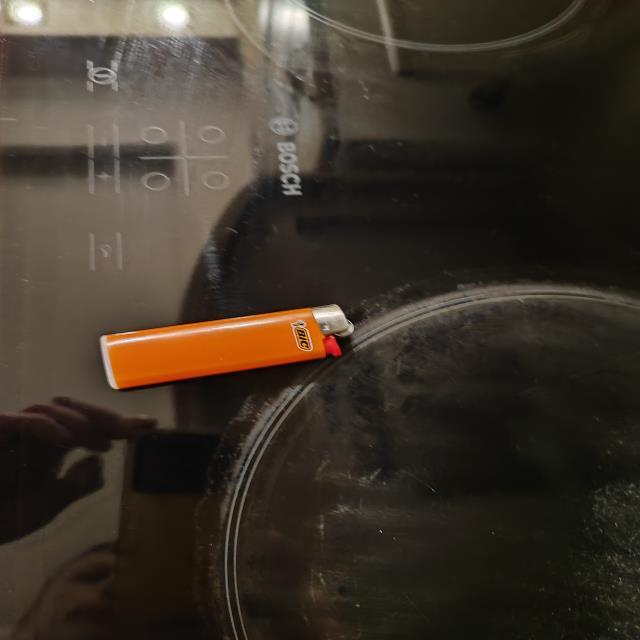lighter: (100, 304, 353, 389)
